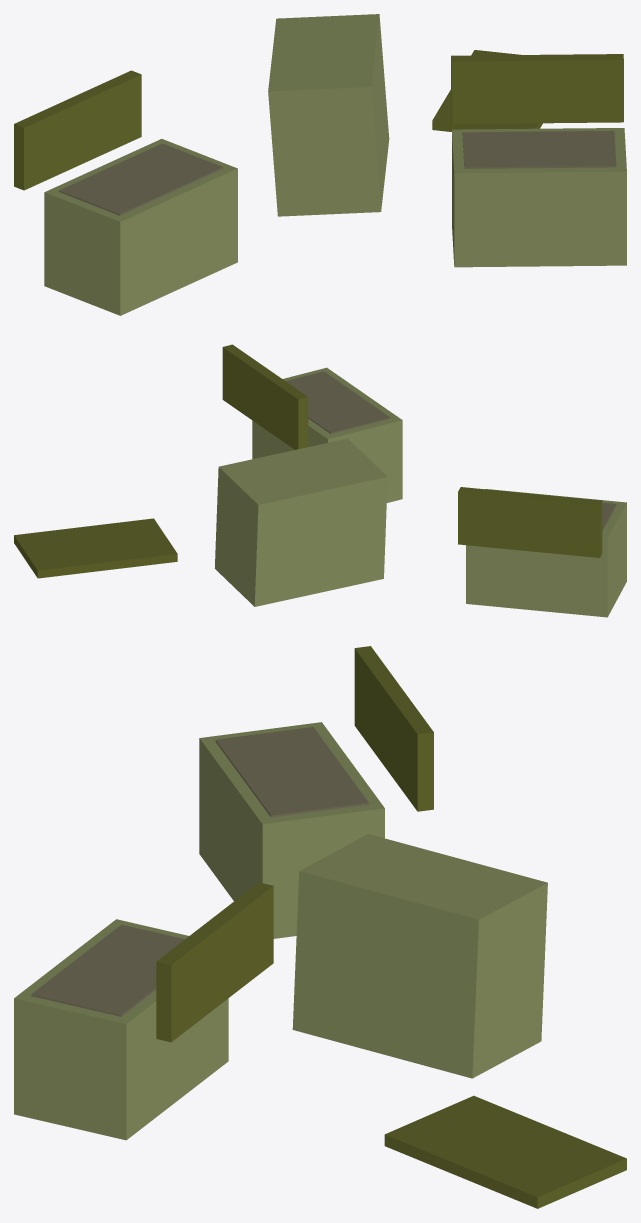
Rendered from SM_CajasMunicion_v4_Vacias_LOD1.fbx.
3 views of the same model, one above another, from view 1: azimuth 30°, elevation 25°; view 2: azimuth 150°, elevation 25°; view 3: azimuth 270°, elevation 25° (orthographic). The views are drawn at different scales.
Parts seen in each view (by area): view 1: SM_farp_betera_v24_LOD1; view 2: SM_farp_betera_v24_LOD1; view 3: SM_farp_betera_v24_LOD1.
Part boxes in pixels (x1,y1,x2,y2): SM_farp_betera_v24_LOD1: (14,14,626,315); SM_farp_betera_v24_LOD1: (14,344,626,617); SM_farp_betera_v24_LOD1: (14,646,626,1208).
Bounding box in the file's own units: 2.1 × 0.4901 × 1.44.
